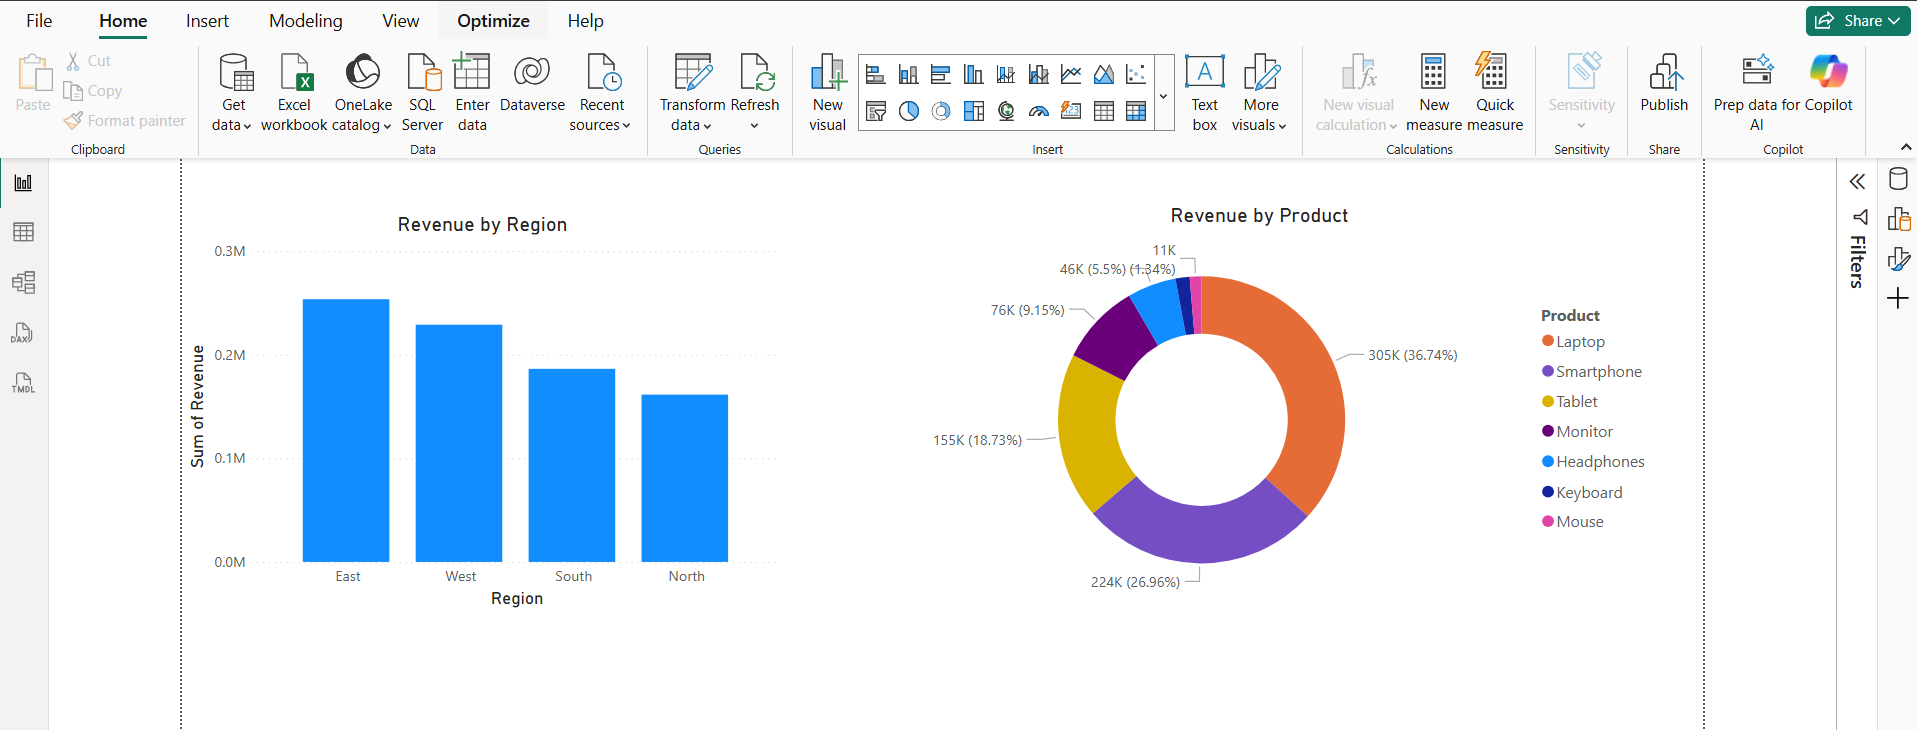

The dashboard page shown, as its layout file describes it:
{"tool":"powerbi","page":{"name":"Page 1","canvas":[1280,720],"ordinal":0},"visuals":[{"type":"columnChart","title":"Revenue by Region","fields":{"Category":["Data.Region"],"Y":["Sum(Data.Revenue)"]},"box":[0,45.2,505.7,338.6],"z":0},{"type":"donutChart","title":"Revenue by Product","fields":{"Category":["Data.Product"],"Y":["Sum(Data.Revenue)"]},"box":[567.8,37.9,677.1,345.9],"z":1}]}

Visuals, with their boxes on the page's 1280x720 design canvas (x1, y1, x2, y2). These are canvas units, not pixel positions in the 1917x730 screenshot, which may show the page scaled, cropped or inside an application window:
"Revenue by Region" columnChart: box(0, 45, 506, 384)
"Revenue by Product" donutChart: box(568, 38, 1245, 384)
